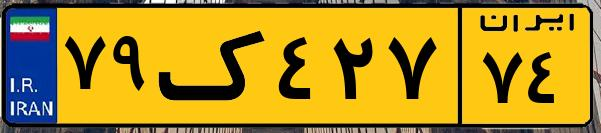2: (330, 28, 385, 110)
4: (270, 28, 330, 110), (525, 38, 570, 115)
7: (385, 28, 445, 110), (57, 26, 110, 100), (475, 38, 525, 113)
9: (110, 28, 158, 98)
ک: (158, 12, 270, 120)
